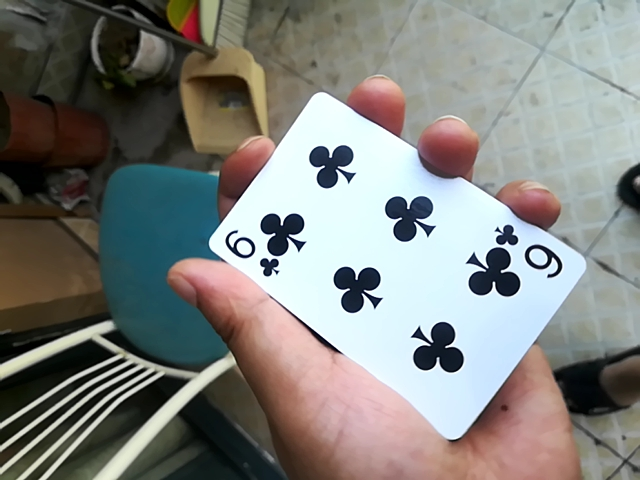mh 6: (189, 95, 585, 443)
